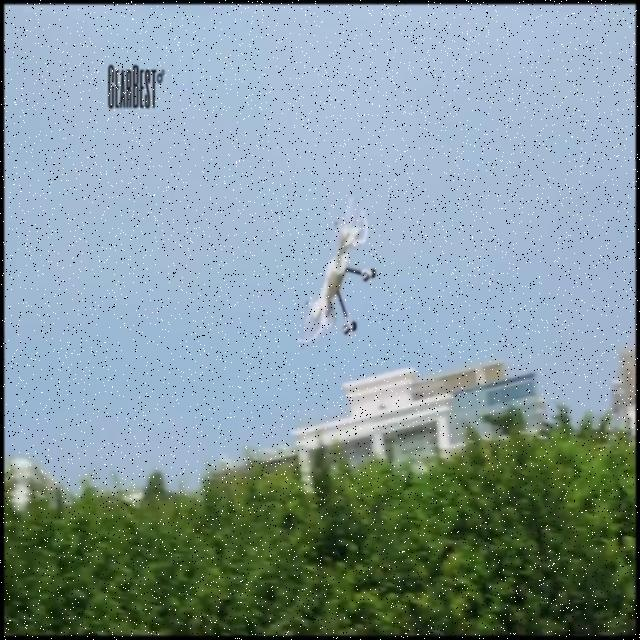UAV: (298, 198, 376, 343)
